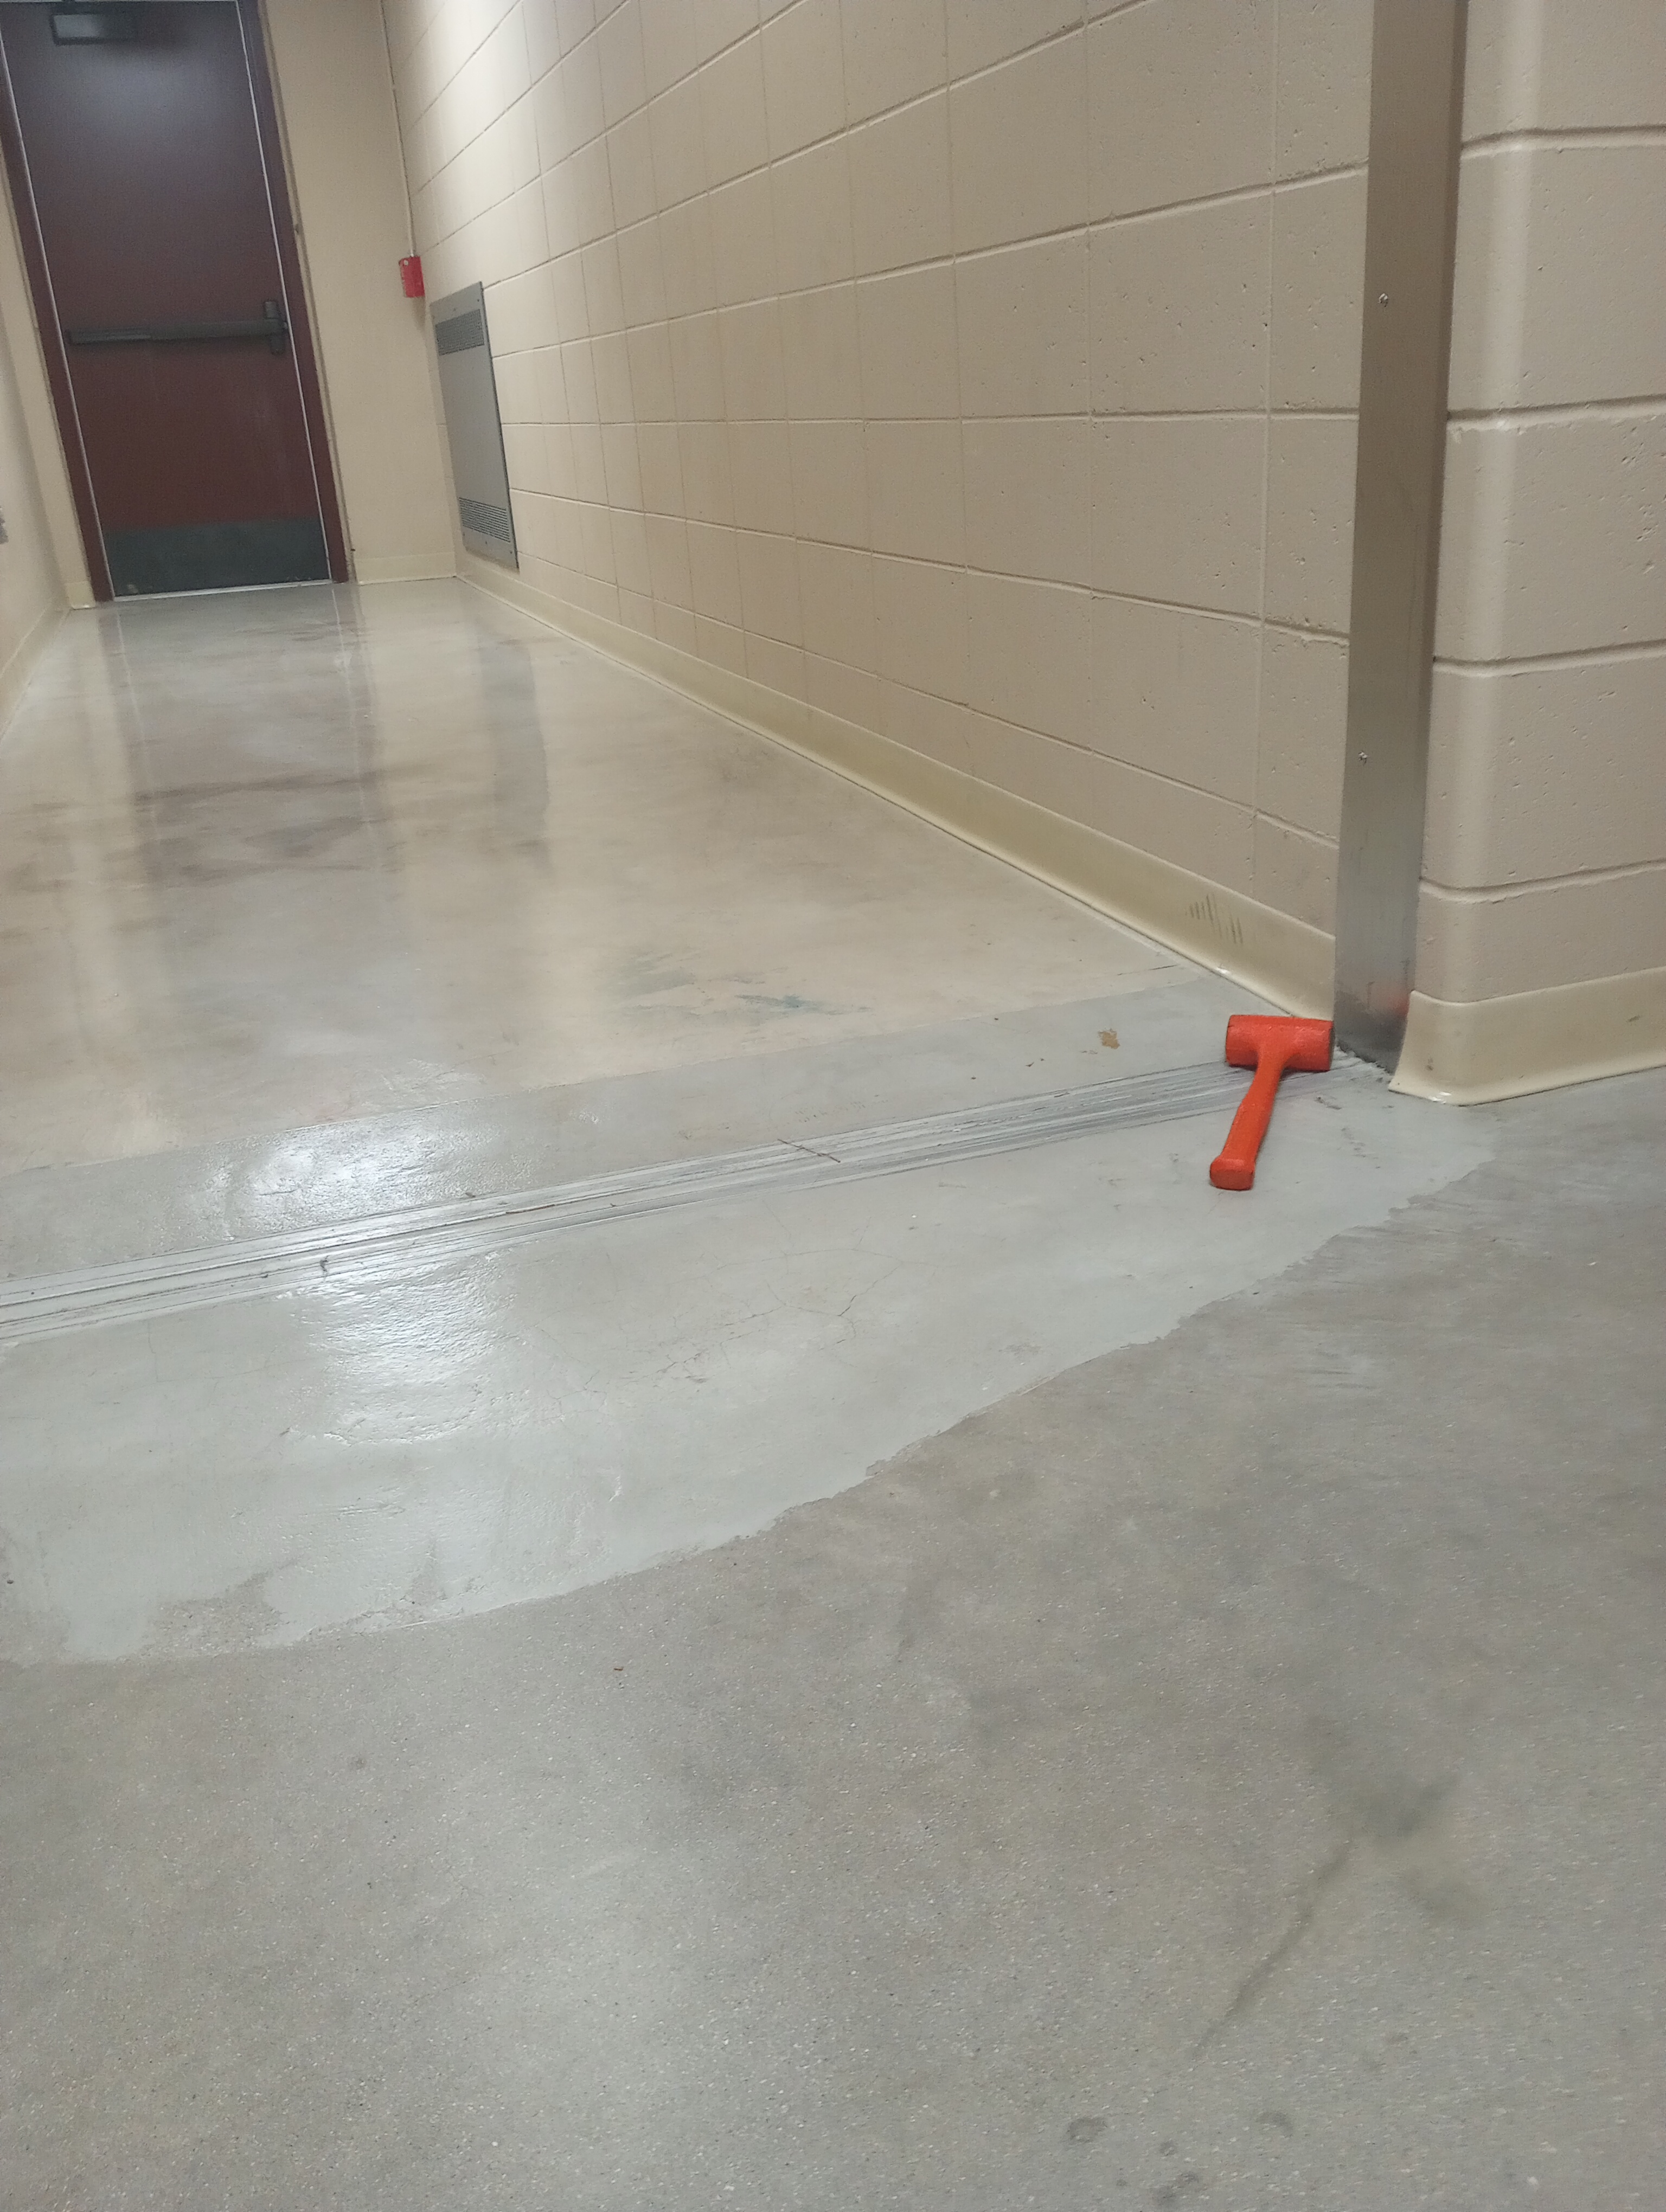bottle: (1202, 998, 1340, 1203)
